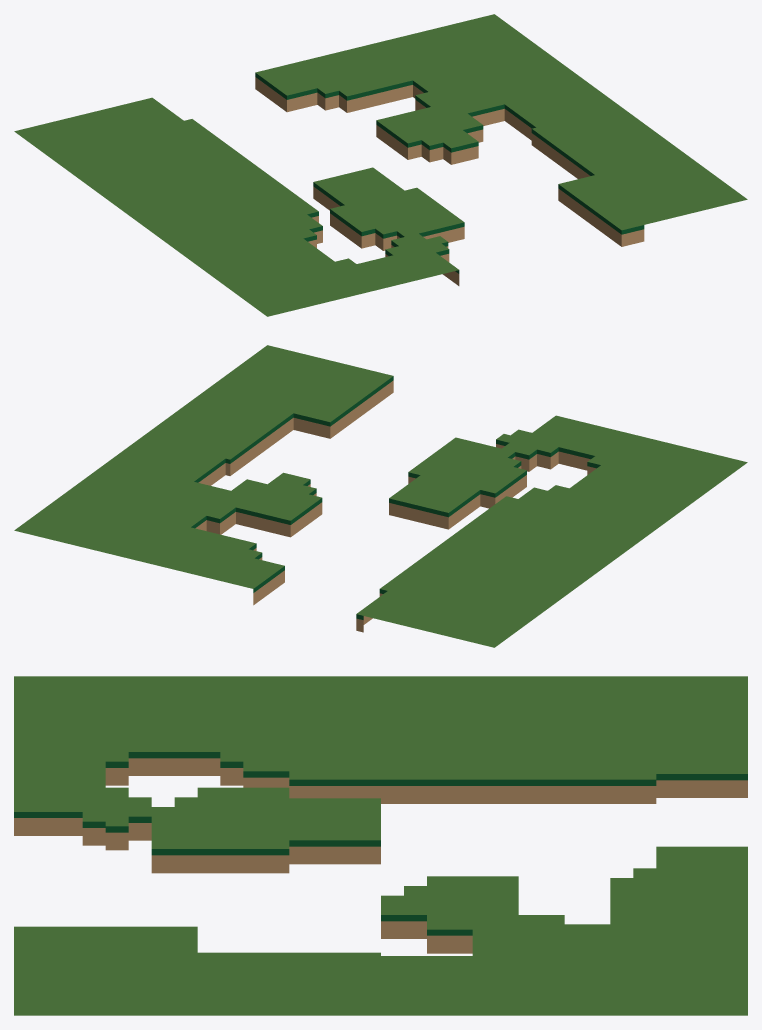
File: SM_Env_Tile_03.fbx
3 views of the same model, one above another, from view 1: azimuth 30°, elevation 25°; view 2: azimuth 150°, elevation 25°; view 3: azimuth 270°, elevation 25° (orthographic). The views are drawn at different scales.
Parts seen in each view (by area): view 1: SM_Env_Tile_03; view 2: SM_Env_Tile_03; view 3: SM_Env_Tile_03.
Part boxes in pixels (<box>): SM_Env_Tile_03: <box>14,14,747,316</box>; SM_Env_Tile_03: <box>14,345,747,647</box>; SM_Env_Tile_03: <box>14,676,747,1015</box>.
Size of the model in its own units: 87.59 by 80 by 2.89.
